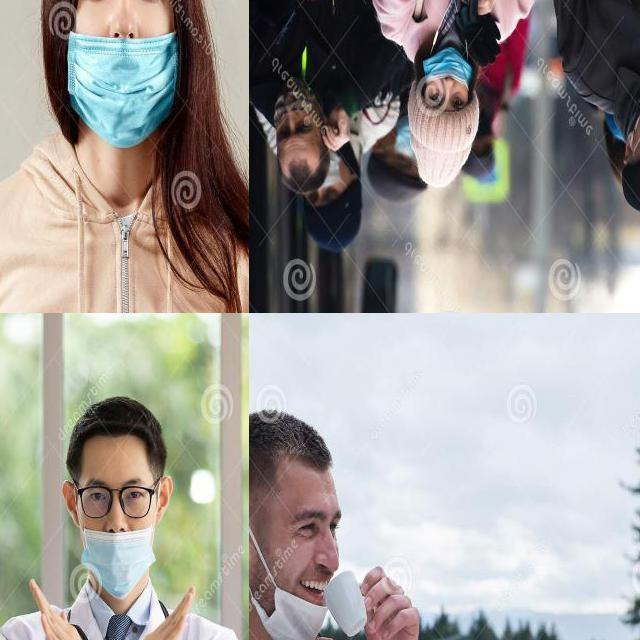hairnet: (66, 15, 180, 149), (250, 539, 342, 639), (80, 517, 153, 600), (421, 42, 472, 92)
